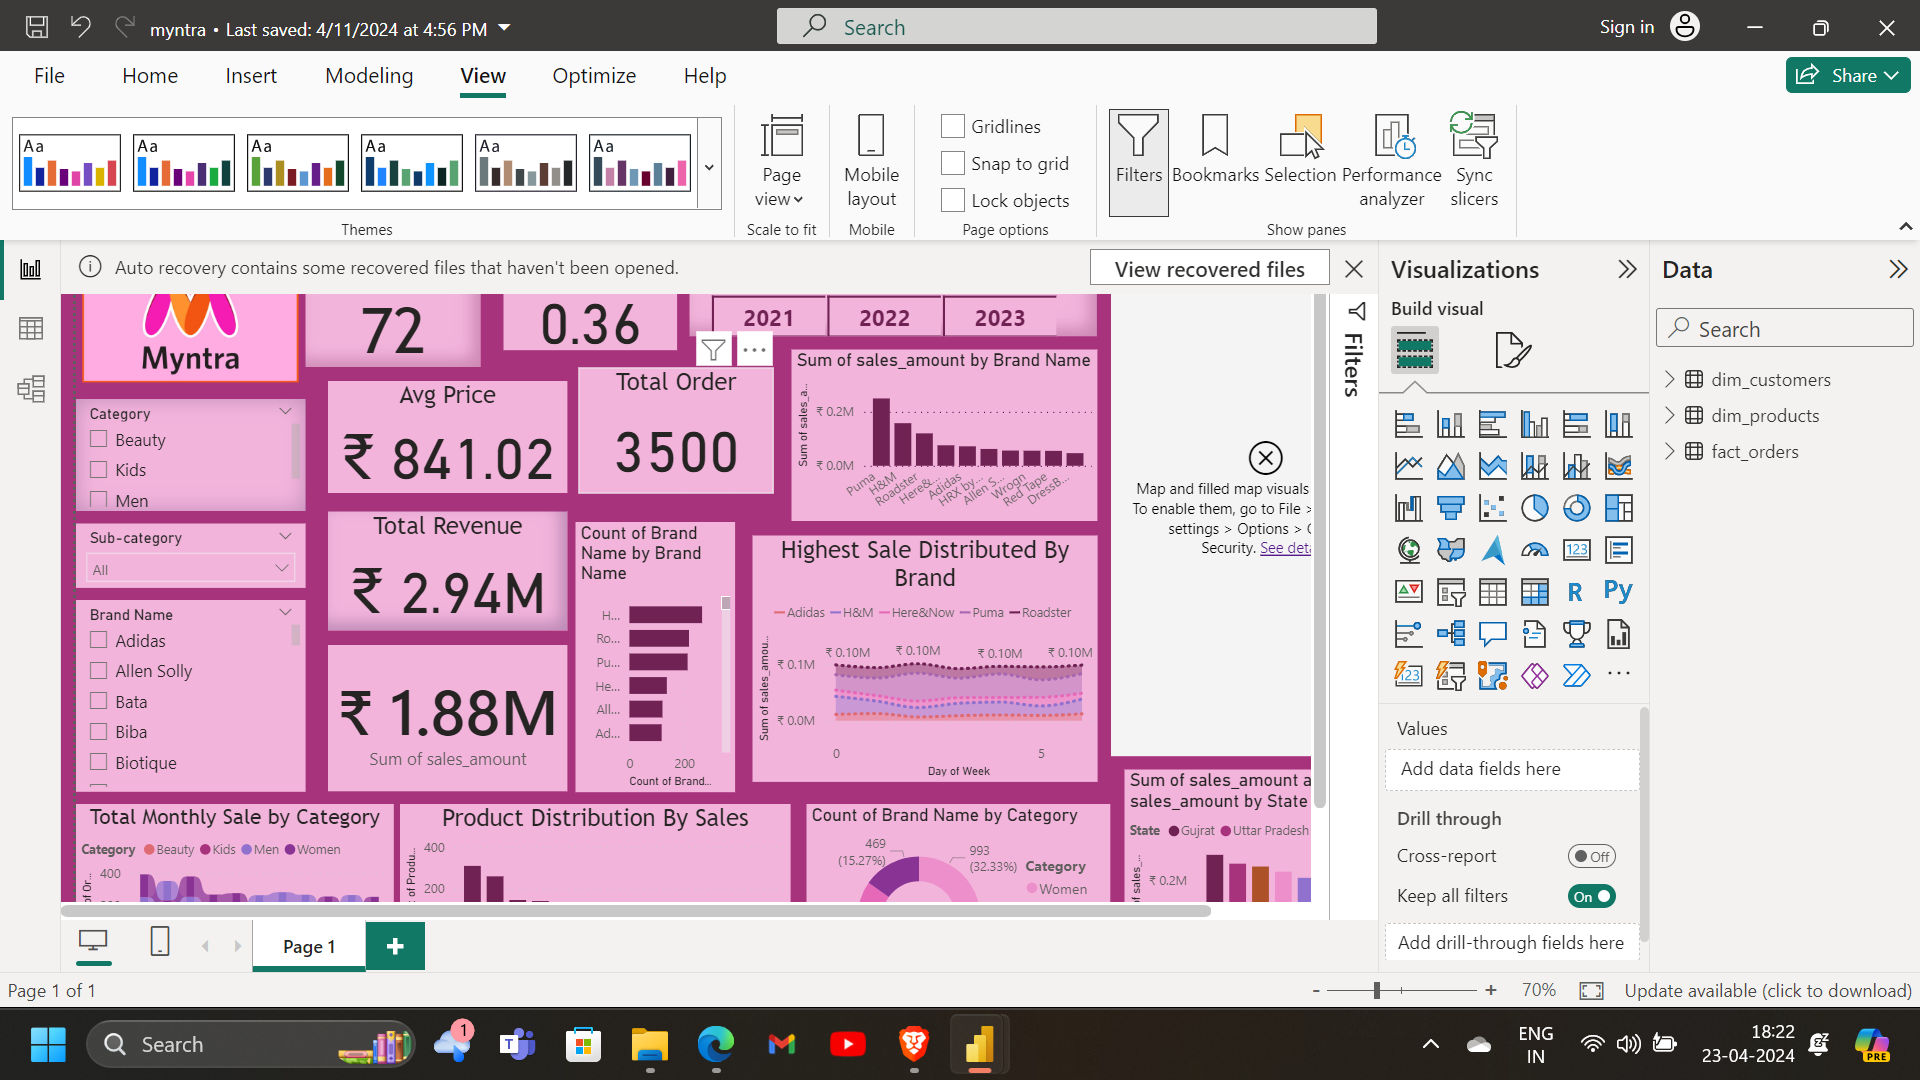

The page's visual inventory and layout, read from the dashboard file:
{"tool":"powerbi","page":{"name":"Page 1","canvas":[1280,720],"ordinal":0},"visuals":[{"type":"lineClusteredColumnComboChart","fields":{"Category":["dim_products.Brand Name"],"Y":["fact_orders.sales_amount"]},"box":[681.2,90.6,291.2,163.4],"z":0},{"type":"stackedAreaChart","title":"Highest Sale Distributed By  Brand","fields":{"Category":["fact_orders.Day of Week"],"Y":["fact_orders.sales_amount"],"Series":["dim_products.Brand Name"]},"box":[644,267,328.4,234.6],"z":1000},{"type":"lineStackedColumnComboChart","fields":{"Category":["dim_customers.State"],"Y":["fact_orders.sales_amount"],"Series":["dim_customers.State"],"Y2":["fact_orders.sales_amount"]},"box":[998.3,490.2,281.5,229.8],"z":2000},{"type":"donutChart","fields":{"Category":["dim_products.Category"],"Y":["dim_products.Brand Name"]},"box":[695.7,522.6,289.6,197.4],"z":3000},{"type":"map","fields":{"Category":["dim_customers.City"],"Series":["dim_customers.State"],"Size":["fact_orders.Order ID"]},"box":[985.3,0,294.5,477.3],"z":4000},{"type":"barChart","fields":{"Category":["dim_products.Brand Name"],"Y":["dim_products.Brand Name"]},"box":[475.7,254,152.1,257.3],"z":5000},{"type":"clusteredColumnChart","title":"Product Distribution By Sales","fields":{"Category":["dim_products.Product Name"],"Y":["dim_products.Product Name"]},"box":[309,522.6,372.1,197.4],"z":6000},{"type":"ribbonChart","title":"Total Monthly Sale by Category","fields":{"Series":["dim_products.Category"],"Y":["fact_orders.Order ID"],"Category":["fact_orders.Date.Variation.Date Hierarchy.Month"]},"box":[0,522.6,302.6,197.4],"z":7000},{"type":"slicer","title":"Year","fields":{"Values":["fact_orders.Year"]},"box":[584.1,0,388.3,77.7],"z":8000},{"type":"slicer","fields":{"Values":["dim_products.Brand Name"]},"box":[0,328.4,218.4,182.8],"z":9000},{"type":"slicer","fields":{"Values":["dim_products.Sub-category"]},"box":[0,255.6,218.4,61.5],"z":10000},{"type":"slicer","fields":{"Values":["dim_products.Category"]},"box":[0,137.5,218.4,106.8],"z":11000},{"type":"card","title":"Total Revenue","fields":{"Values":["fact_orders.Original Price"]},"box":[239.5,244.3,228.1,113.3],"z":12000},{"type":"card","title":"Avg Discount","fields":{"Values":["fact_orders.Discount%"]},"box":[407.7,0,165,90.6],"z":13000},{"type":"card","fields":{"Values":["fact_orders.sales_amount"]},"box":[239.5,372.1,228.1,139.1],"z":14000},{"type":"card","title":"Total Brand","fields":{"Values":["dim_products.Brand Name"]},"box":[218.4,0,166.7,106.8],"z":15000},{"type":"card","title":"Total Order","fields":{"Values":["fact_orders.Order ID"]},"box":[478.9,106.8,186.1,119.7],"z":16000},{"type":"card","title":"Avg Price","fields":{"Values":["fact_orders.Original Price"]},"box":[239.5,119.7,228.1,106.8],"z":17000},{"type":"image","box":[0,0,218.4,126.2],"z":18000}]}

Visuals, with their boxes on the page's 1280x720 design canvas (x1, y1, x2, y2). These are canvas units, not pixel positions in the 1920x1080 screenshot, which may show the page scaled, cropped or inside an application window:
lineClusteredColumnComboChart - dim_products.Brand Name x fact_orders.sales_amount: [x1=681, y1=91, x2=972, y2=254]
"Highest Sale Distributed By  Brand" stackedAreaChart: [x1=644, y1=267, x2=972, y2=502]
lineStackedColumnComboChart - dim_customers.State x fact_orders.sales_amount: [x1=998, y1=490, x2=1280, y2=720]
donutChart - dim_products.Category x dim_products.Brand Name: [x1=696, y1=523, x2=985, y2=720]
map - dim_customers.City x dim_customers.State: [x1=985, y1=0, x2=1280, y2=477]
barChart - dim_products.Brand Name x dim_products.Brand Name: [x1=476, y1=254, x2=628, y2=511]
"Product Distribution By Sales" clusteredColumnChart: [x1=309, y1=523, x2=681, y2=720]
"Total Monthly Sale by Category" ribbonChart: [x1=0, y1=523, x2=303, y2=720]
"Year" slicer: [x1=584, y1=0, x2=972, y2=78]
slicer - dim_products.Brand Name: [x1=0, y1=328, x2=218, y2=511]
slicer - dim_products.Sub-category: [x1=0, y1=256, x2=218, y2=317]
slicer - dim_products.Category: [x1=0, y1=138, x2=218, y2=244]
"Total Revenue" card: [x1=240, y1=244, x2=468, y2=358]
"Avg Discount" card: [x1=408, y1=0, x2=573, y2=91]
card - fact_orders.sales_amount: [x1=240, y1=372, x2=468, y2=511]
"Total Brand" card: [x1=218, y1=0, x2=385, y2=107]
"Total Order" card: [x1=479, y1=107, x2=665, y2=226]
"Avg Price" card: [x1=240, y1=120, x2=468, y2=226]
image: [x1=0, y1=0, x2=218, y2=126]
